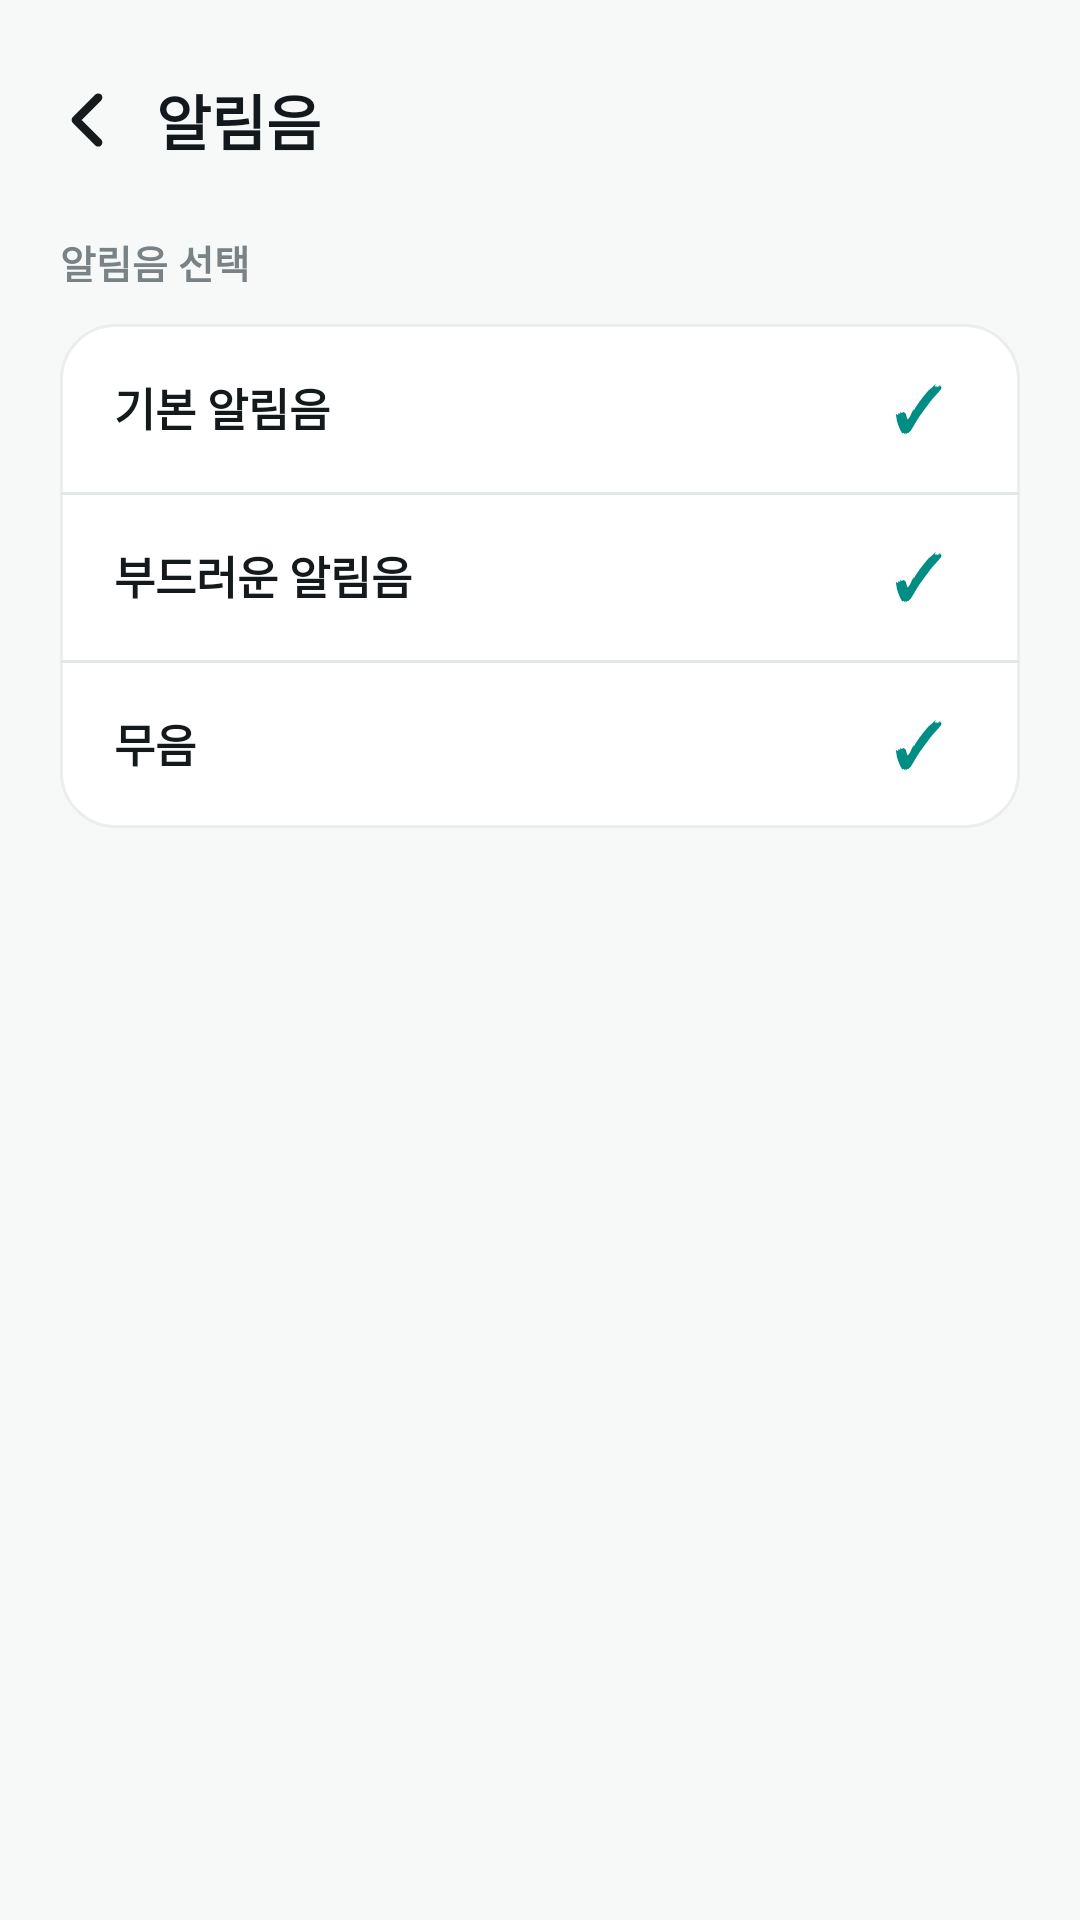

Screen size 1080*1920. Icon name, then its center in pixels as [x,y]:
chevron left: [87,120]
